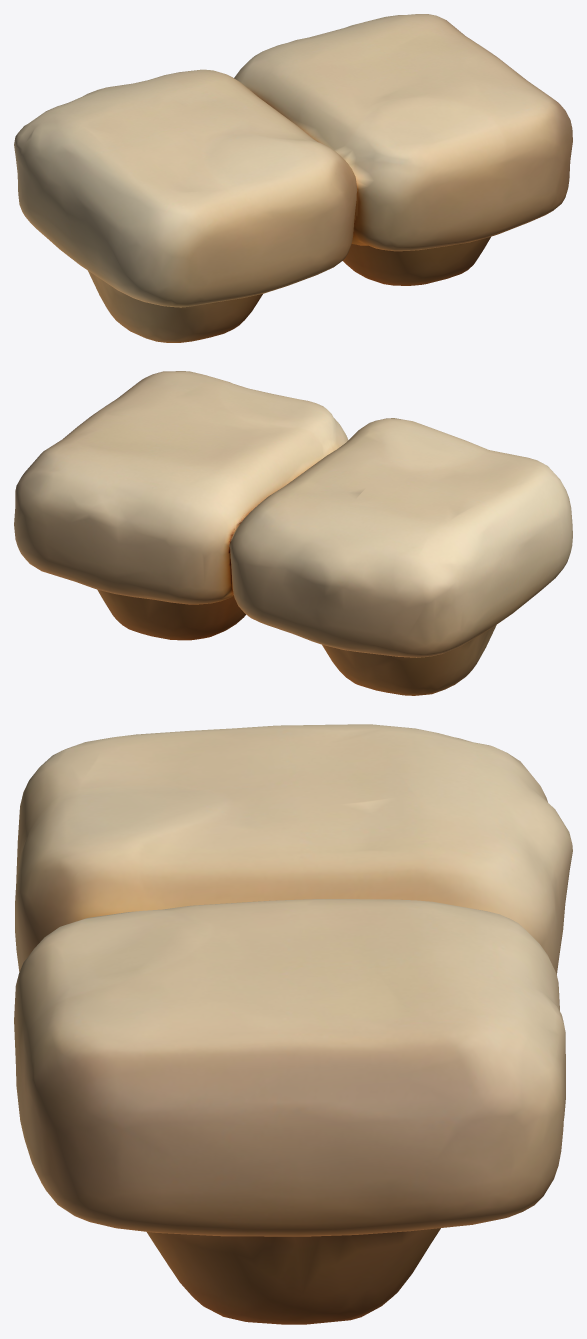
Rendered from long-warm-stone.glb.
The picture shows the model from 3 angles, top to bottom: view 1: azimuth 30°, elevation 25°; view 2: azimuth 150°, elevation 25°; view 3: azimuth 270°, elevation 25°; orthographic projection. The views are drawn at different scales.
Visible parts, largest first — view 1: long-warm-stone; view 2: long-warm-stone; view 3: long-warm-stone.
Part boxes in pixels (x1,y1,x2,y2): long-warm-stone: (14, 14, 572, 342); long-warm-stone: (14, 371, 572, 695); long-warm-stone: (14, 724, 572, 1324).
Size of the model in its own units: 4.82 by 2 by 3.12.
Materials: 1 (1 with a texture image).
